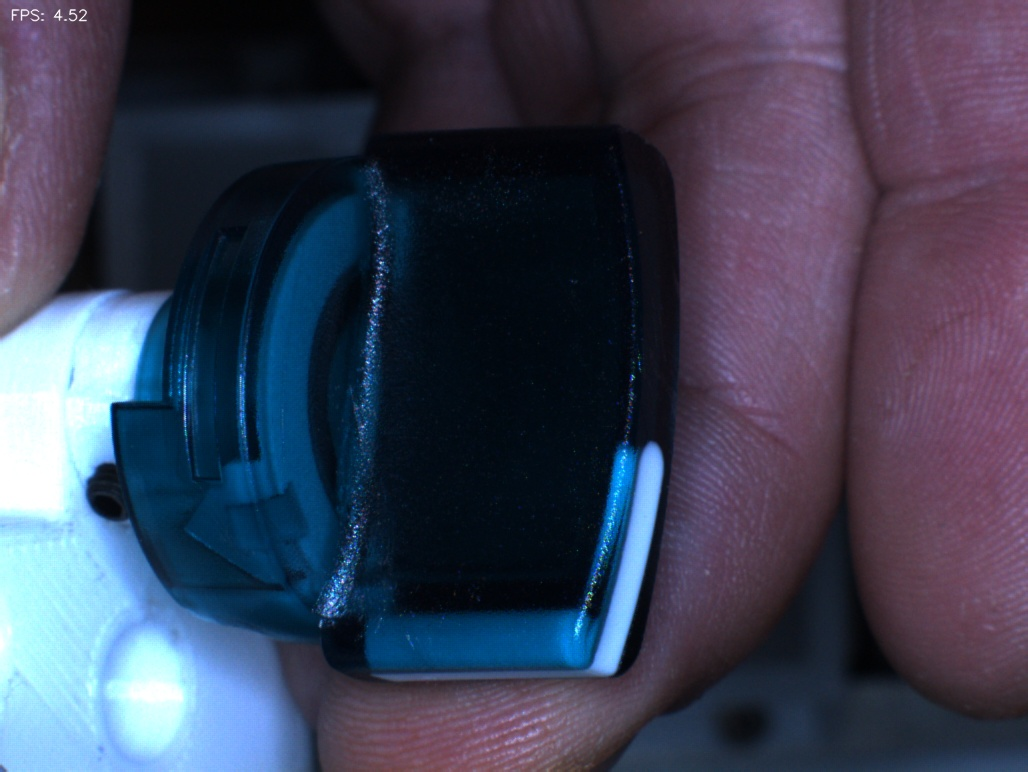Givrage: (356, 477, 406, 650)
